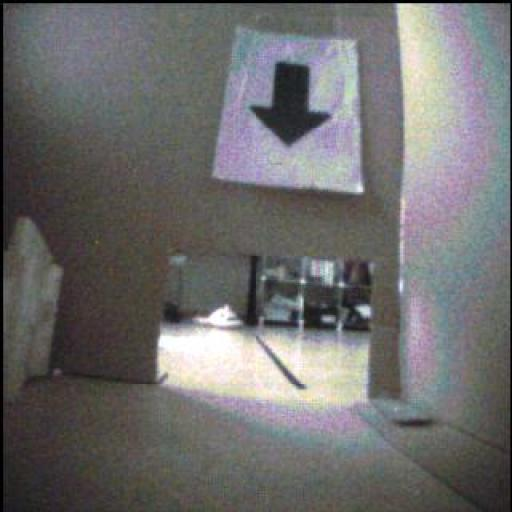arrow: (252, 64, 331, 147)
